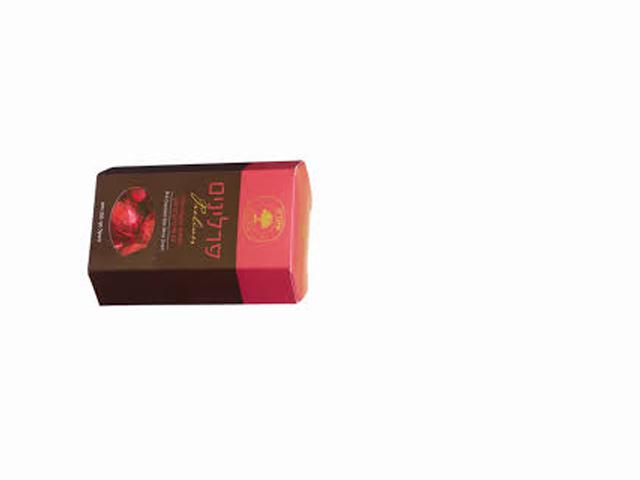chocolate: (66, 157, 317, 310)
